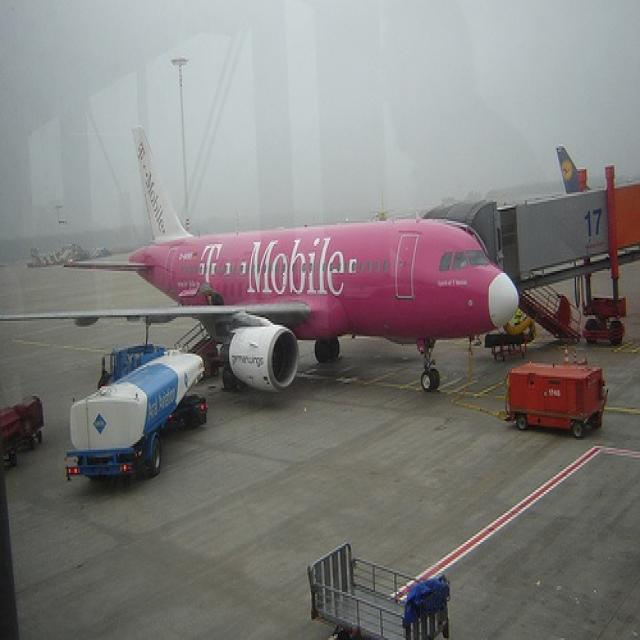aeroplane: (0, 125, 521, 396)
